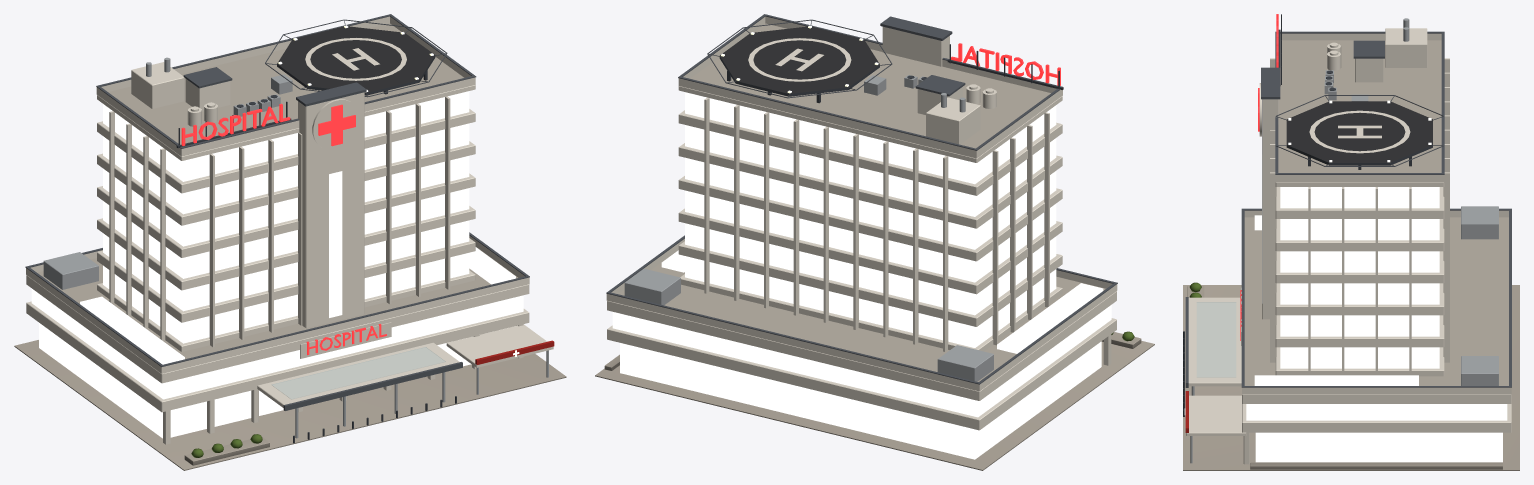
Rendered from hospital.glb.
The picture shows the model from 3 angles, left to right: view 1: azimuth 30°, elevation 25°; view 2: azimuth 150°, elevation 25°; view 3: azimuth 270°, elevation 25°; orthographic projection. The views are drawn at different scales.
Visible parts, largest first — view 1: hospital_v0; view 2: hospital_v0; view 3: hospital_v0.
Boxes of the visible parts, x1,y1,x2,y2 form: hospital_v0: (14,14,566,470); hospital_v0: (595,14,1154,470); hospital_v0: (1183,14,1519,470).
Bounding box in the file's own units: 52 × 39.8 × 40.01.
